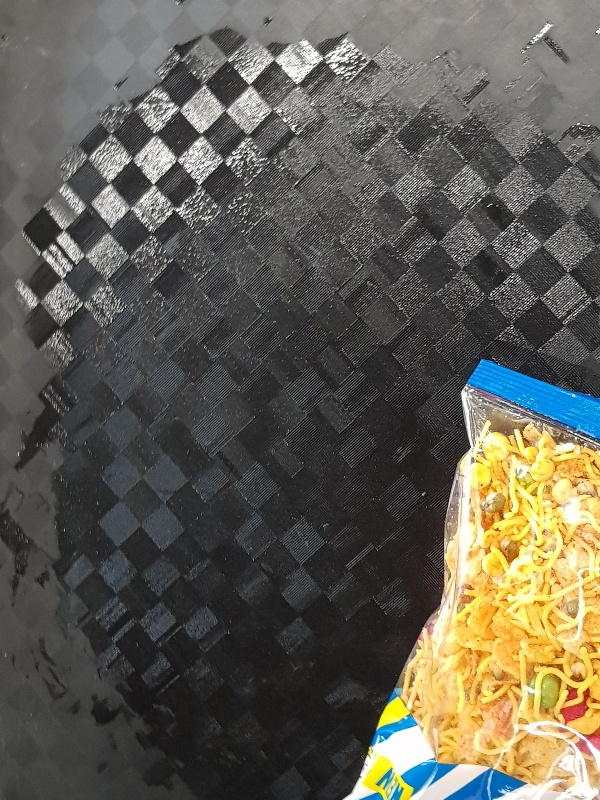Star Tidbits Mixer: (342, 357, 600, 799)
